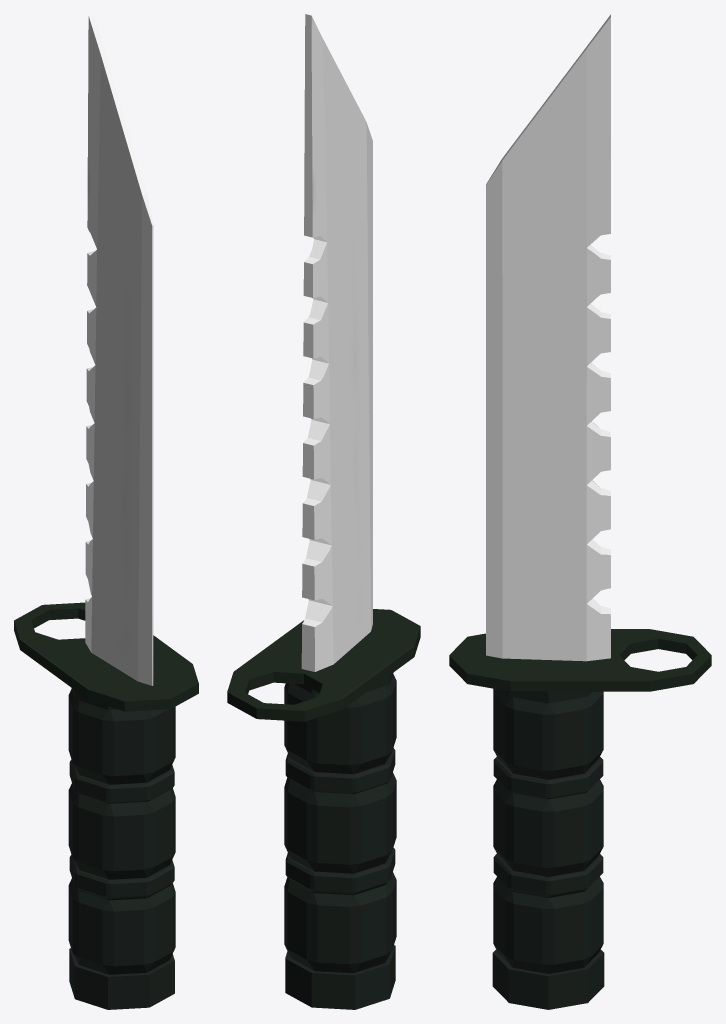
The model's file is Knife.fbx.
The picture shows the model from 3 angles, left to right: view 1: azimuth 30°, elevation 25°; view 2: azimuth 150°, elevation 25°; view 3: azimuth 270°, elevation 25°; orthographic projection. The views are drawn at different scales.
Visible parts, largest first — view 1: Knife; view 2: Knife; view 3: Knife.
Boxes of the visible parts, left/top/right/bottom form: Knife: left=14, top=14, right=198, bottom=1009; Knife: left=227, top=14, right=420, bottom=1009; Knife: left=449, top=14, right=711, bottom=1009.
Size of the model in its own units: 204 by 1766 by 433.
1 material, 1 textured.
